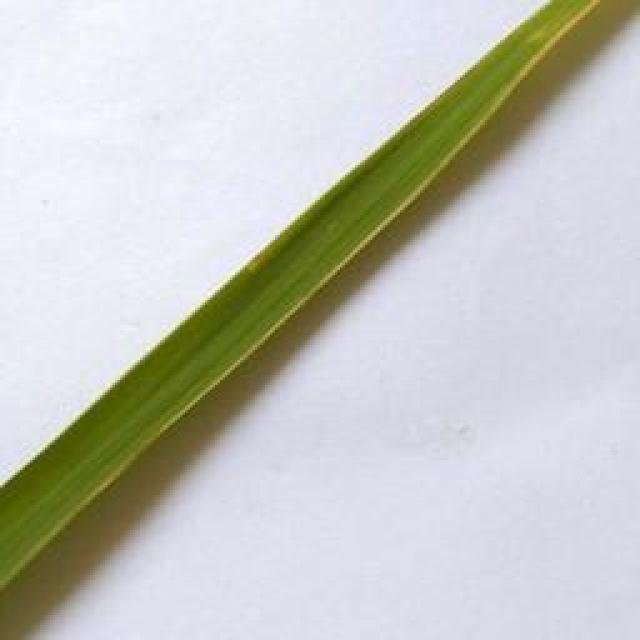Bacterial_Blight: (385, 0, 603, 225)
